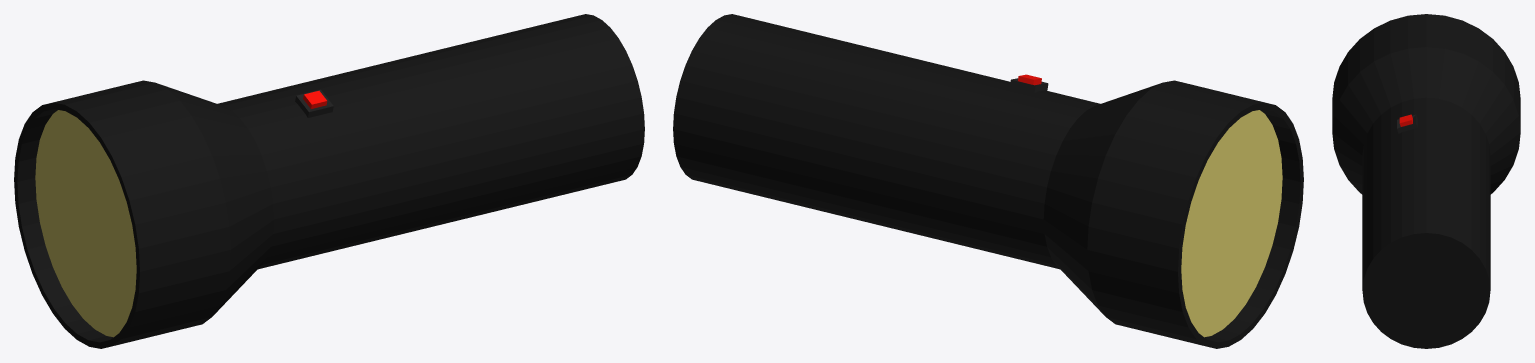
File: flashlisht.fbx
3 views of the same model, side by side, from view 1: azimuth 30°, elevation 25°; view 2: azimuth 150°, elevation 25°; view 3: azimuth 270°, elevation 25° (orthographic). The views are drawn at different scales.
Visible parts, largest first — view 1: Cylinder; view 2: Cylinder; view 3: Cylinder.
Part boxes in pixels (bbox=[...]): Cylinder: bbox=[14, 14, 644, 348]; Cylinder: bbox=[673, 14, 1303, 348]; Cylinder: bbox=[1332, 14, 1520, 348].
Size of the model in its own units: 28.33 by 11.78 by 11.78.
